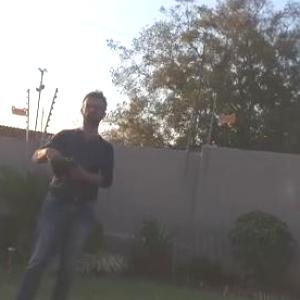follow: (7, 83, 120, 299)
